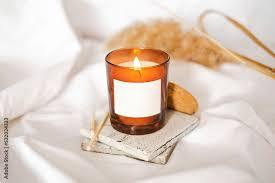candle: (106, 48, 169, 134)
